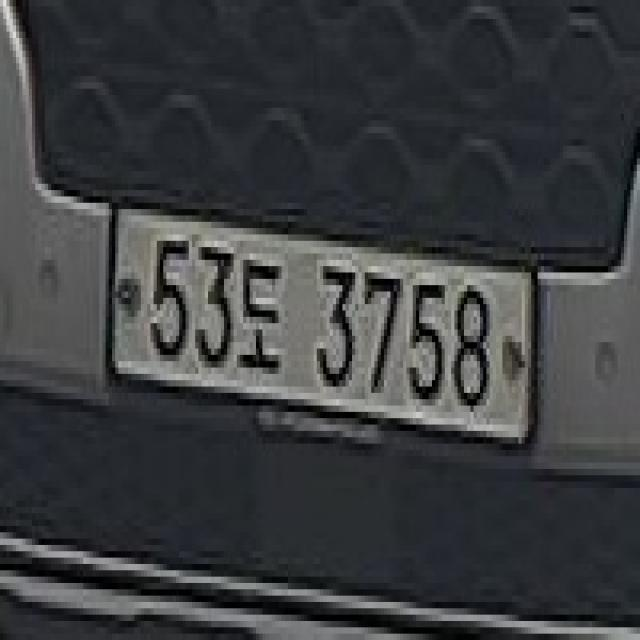3: (186, 234, 240, 374), (317, 266, 358, 399)
5: (150, 228, 196, 368), (410, 272, 451, 412)
7: (362, 266, 406, 412)
8: (458, 279, 502, 418)
do: (236, 247, 282, 374)
license_plate: (102, 190, 544, 469)
